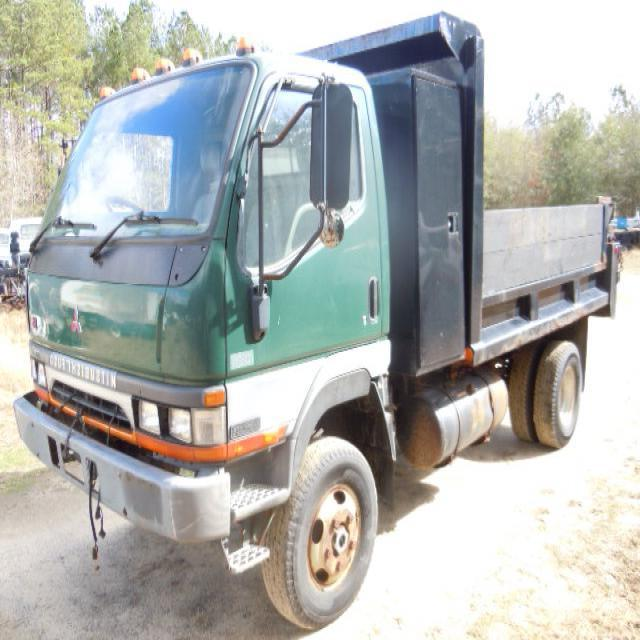truck: (13, 4, 624, 631)
